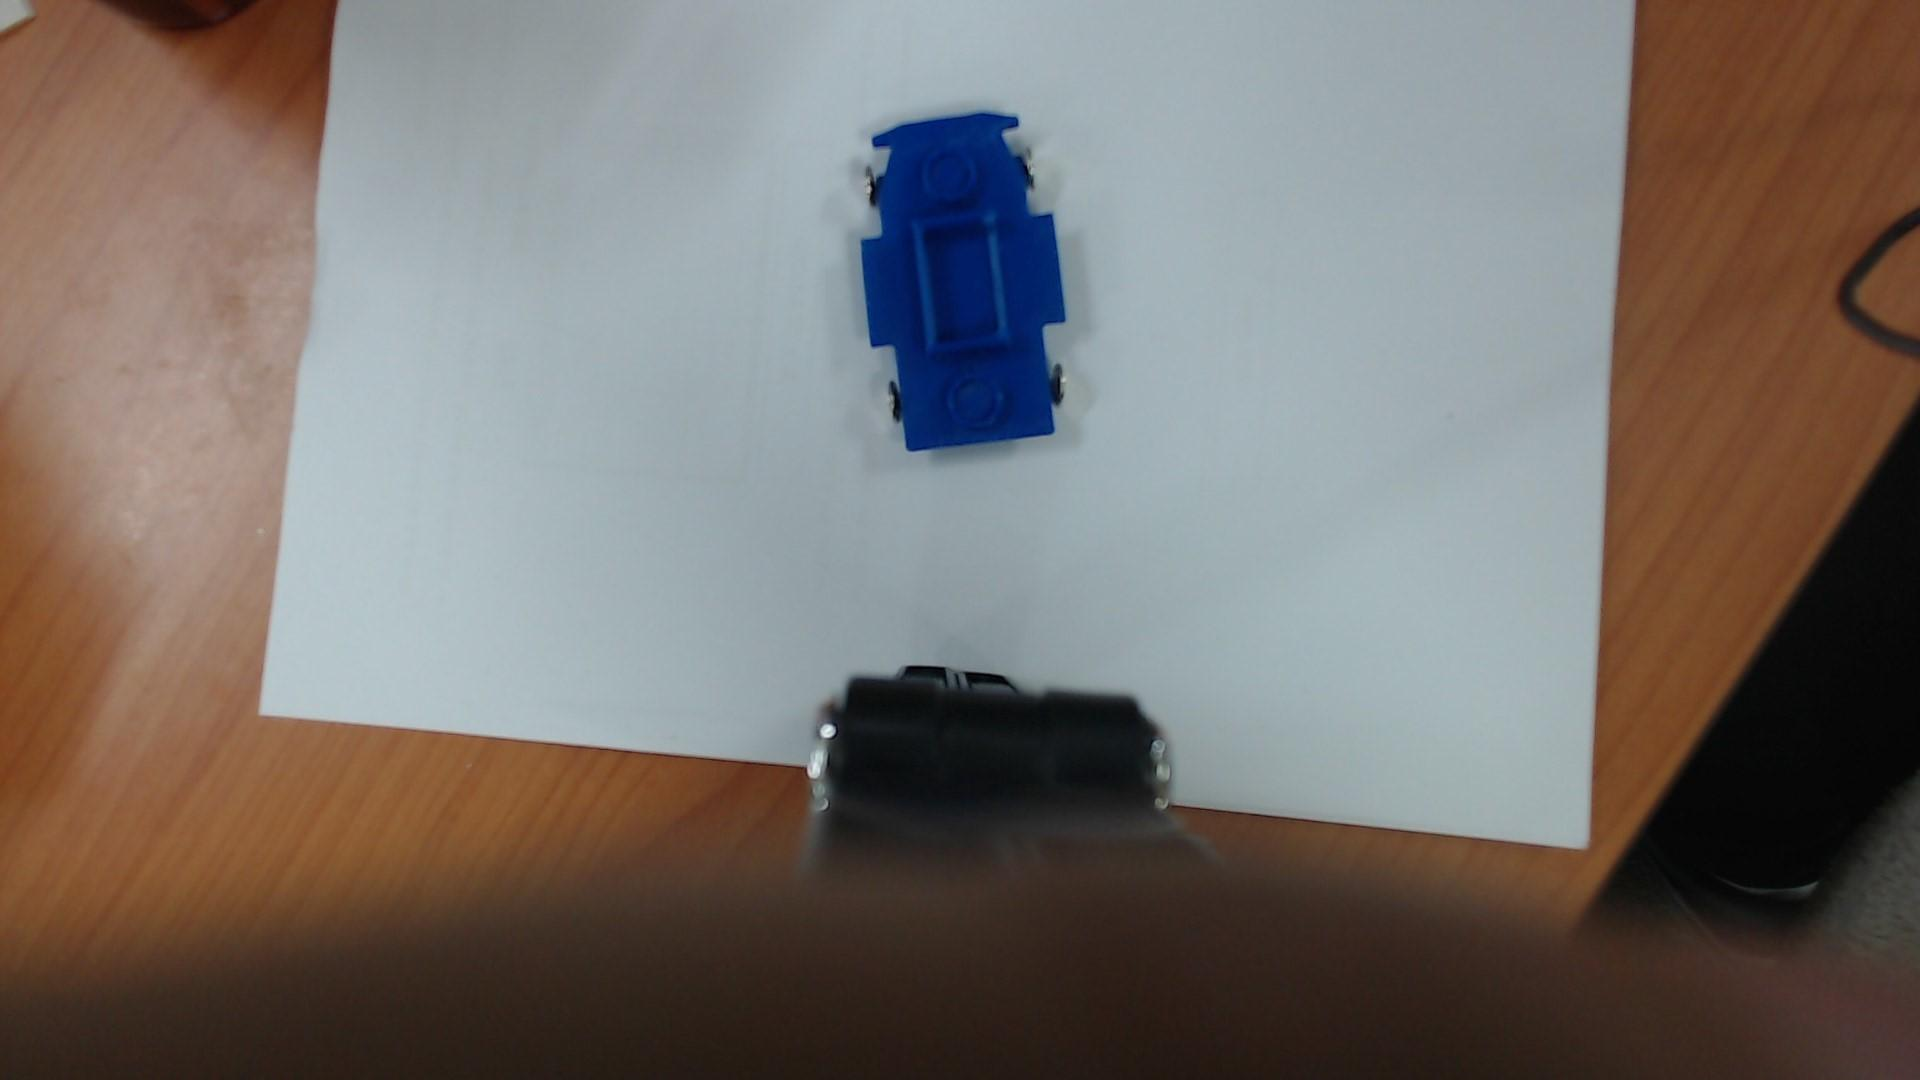lower_ng: (905, 203, 1018, 365)
